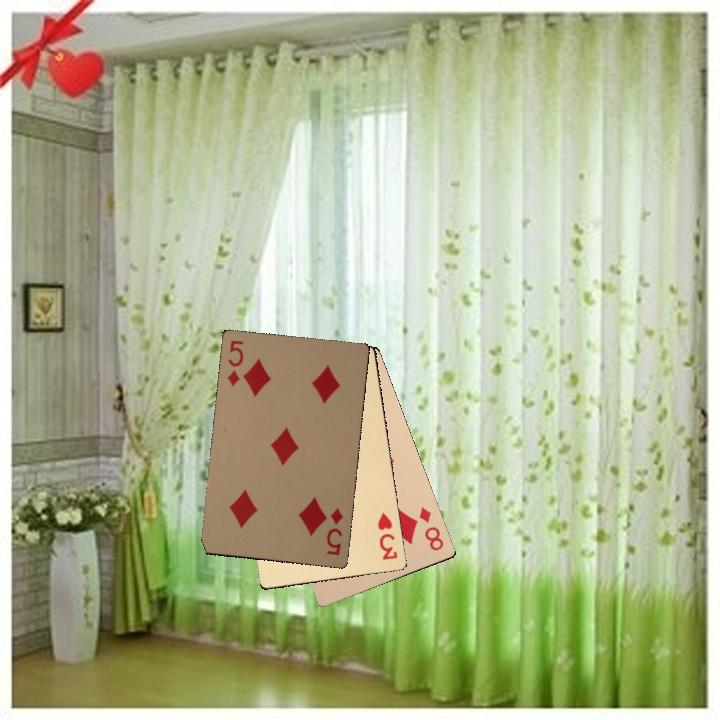3h: (374, 509, 400, 562)
5d: (322, 504, 345, 558), (223, 336, 246, 389)
8d: (415, 503, 446, 553)
